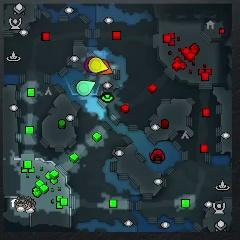p1: (88, 72, 98, 76)
p2: (76, 80, 96, 96)
p3: (84, 56, 94, 72)
p4: (89, 57, 108, 73)
p5: (100, 58, 113, 74)
